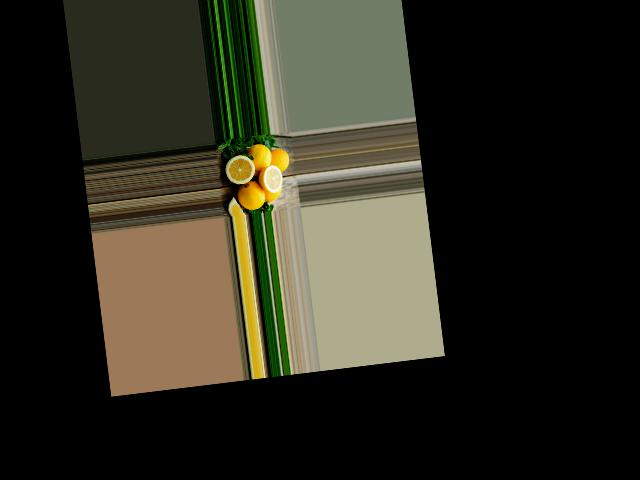lemon: (261, 185, 283, 204)
